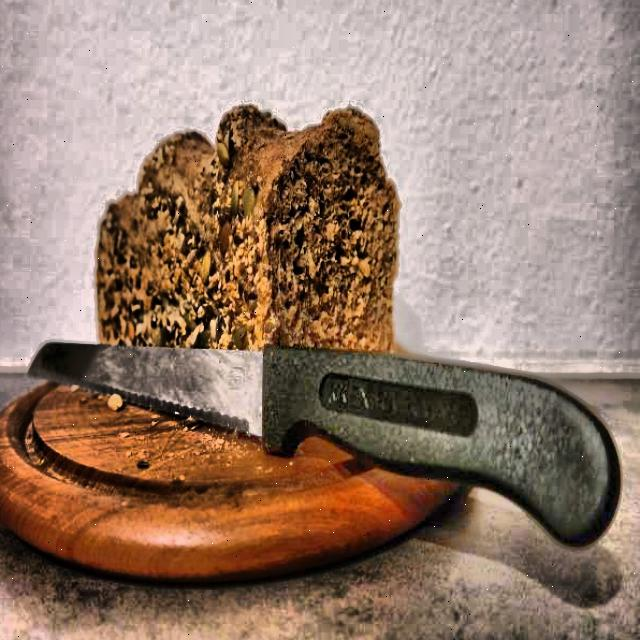knife: (27, 336, 630, 564)
